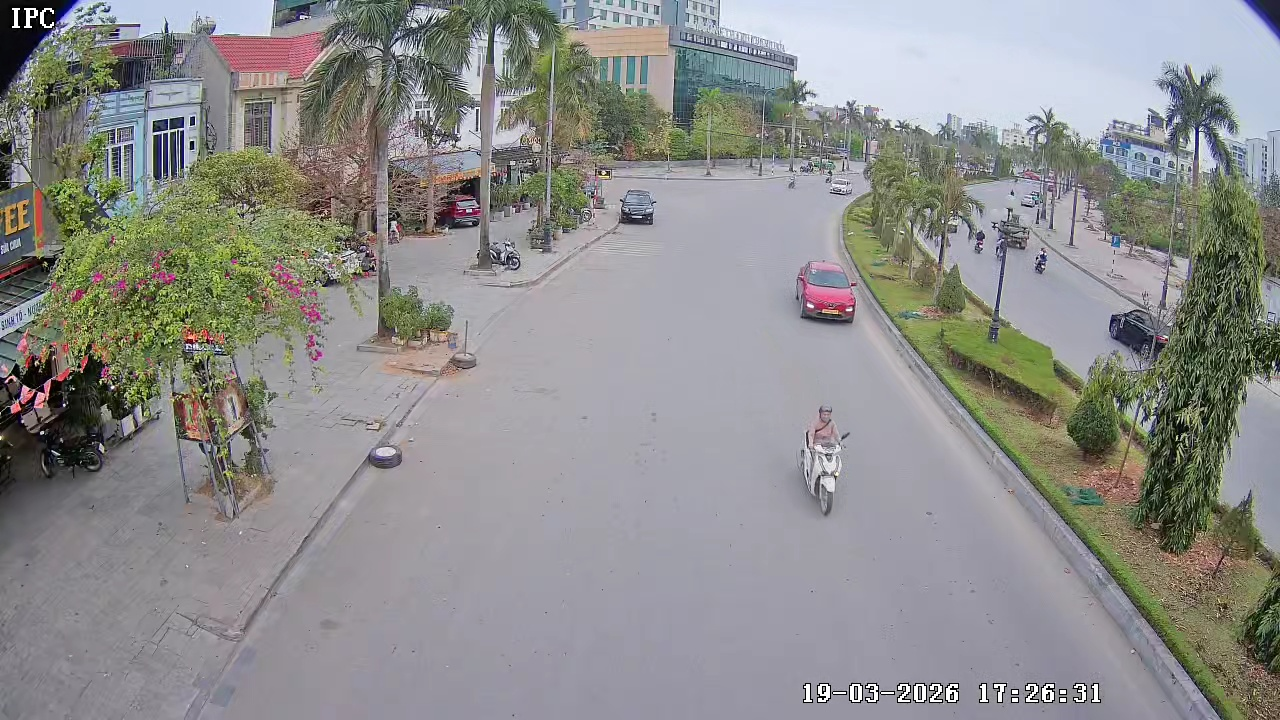car: (794, 258, 859, 324), (617, 187, 658, 225)
motorbike: (795, 403, 853, 515)
